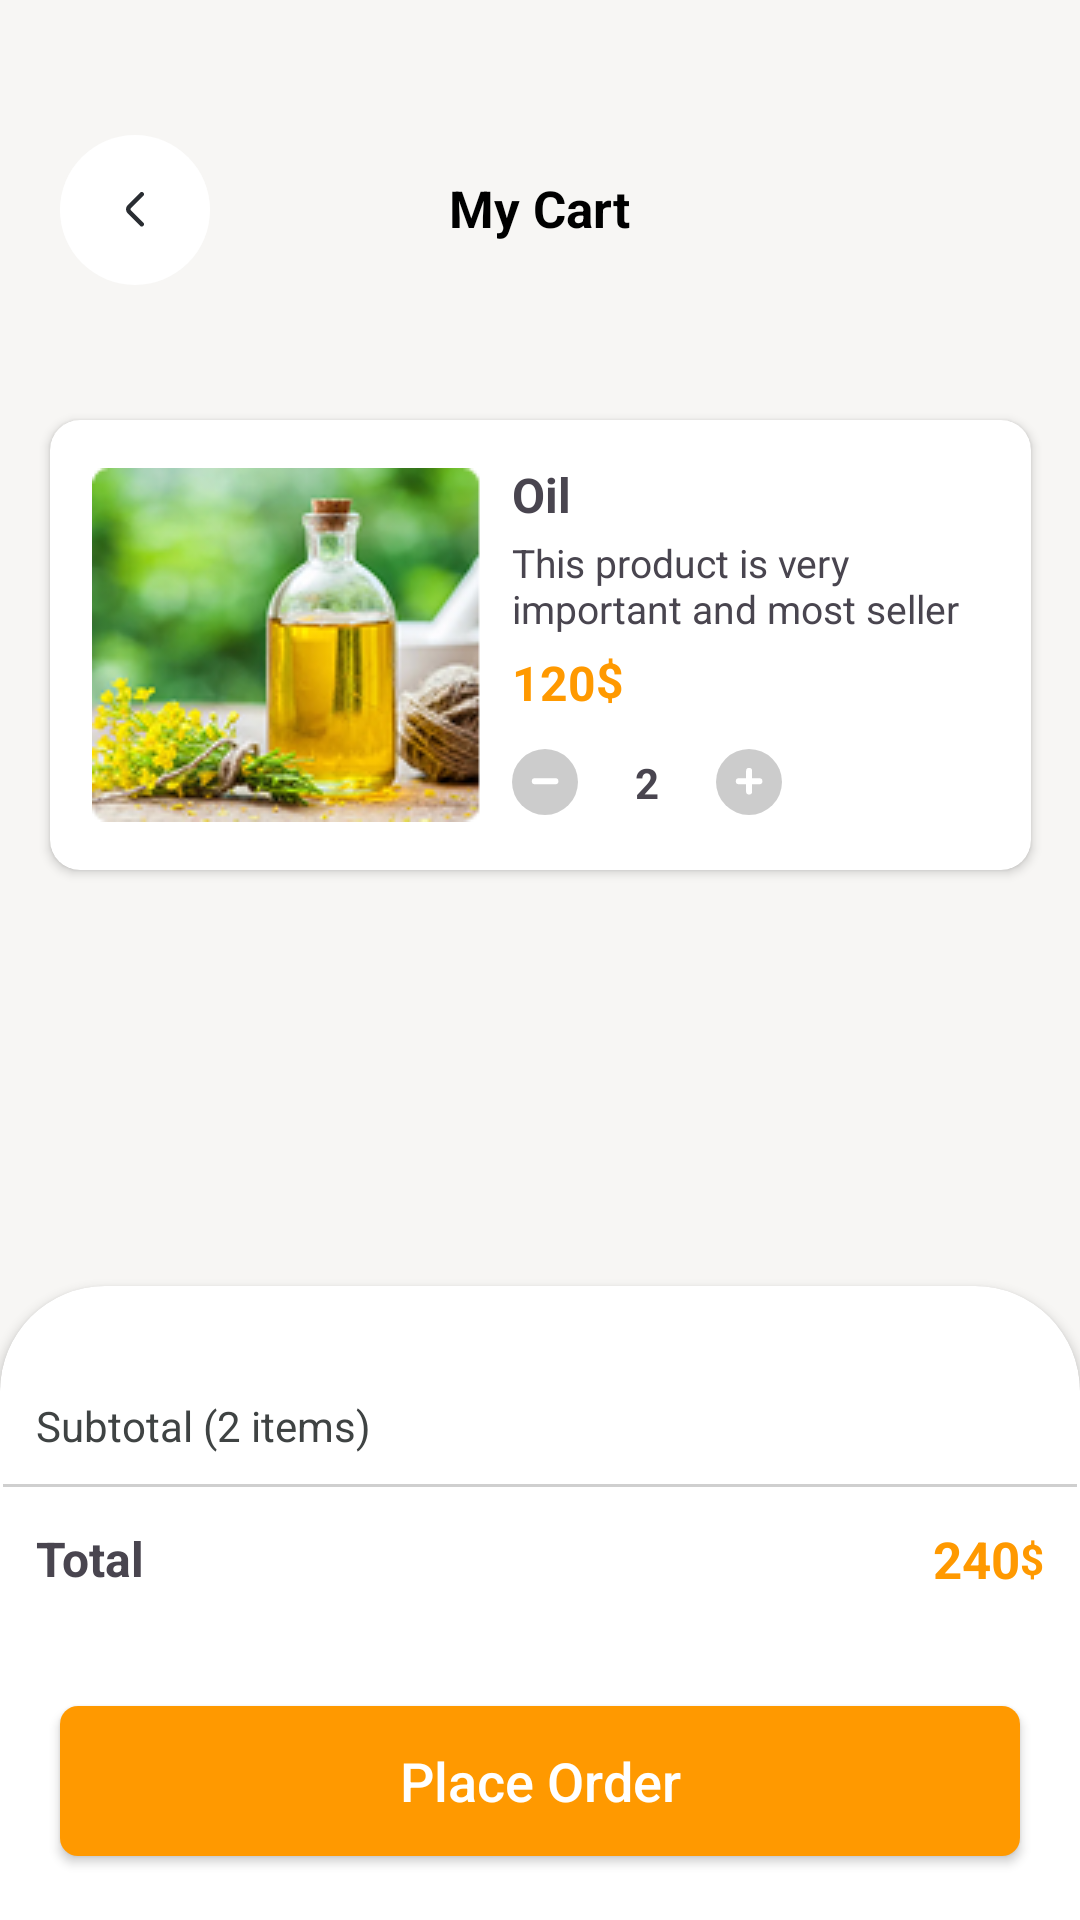

Screen size 1080 x 1920. Icon name, then its box in pixels as {"left": x1, "top": y1, "right": x2, "bottom": y2}:
back: {"left": 60, "top": 135, "right": 210, "bottom": 285}
minus: {"left": 512, "top": 749, "right": 578, "bottom": 815}
plus: {"left": 716, "top": 749, "right": 782, "bottom": 815}
